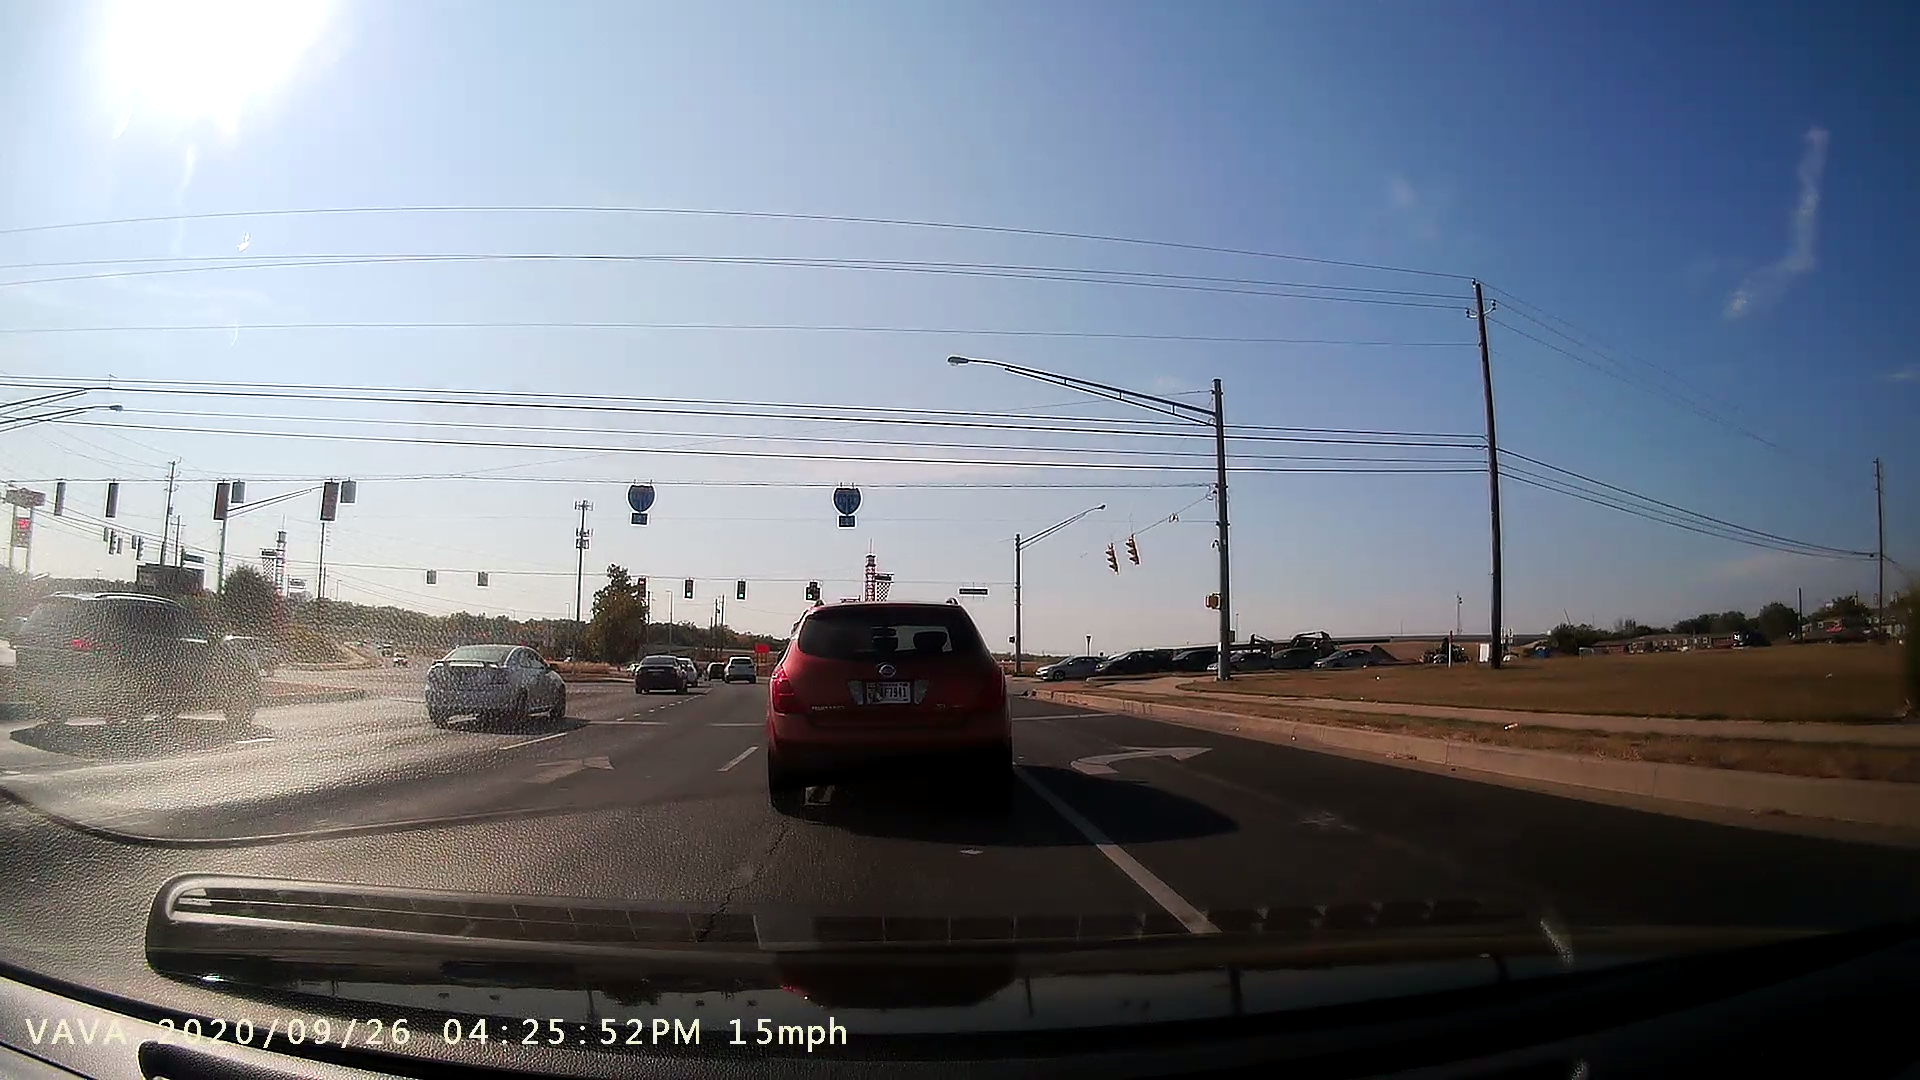const_barrel: (1058, 733, 1226, 783)
left_turn: (1058, 733, 1226, 783)
right_turn: (1058, 733, 1226, 783)
